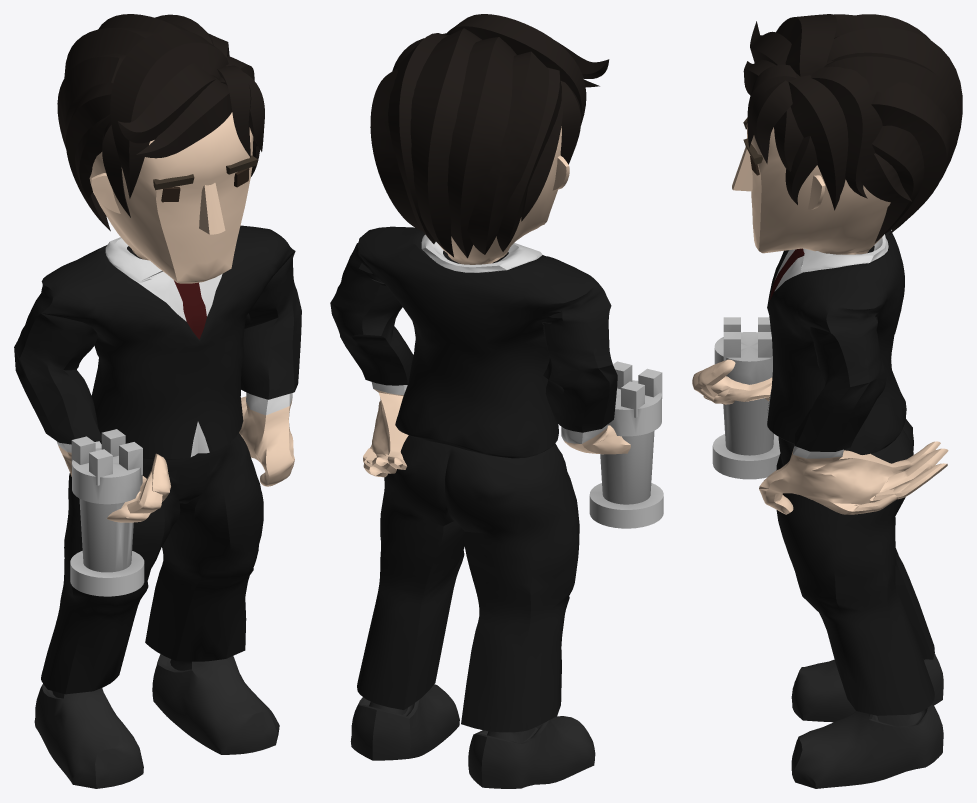
The model's file is av-xadrezista-sombrio.glb.
3 renders of one model, left to right at view 1: azimuth 30°, elevation 25°; view 2: azimuth 150°, elevation 25°; view 3: azimuth 270°, elevation 25°, orthographic.
Parts seen in each view (by area): view 1: Ad_peca_xadrez_0_0; view 2: Ad_peca_xadrez_0_0; view 3: Ad_peca_xadrez_0_0.
Boxes of the visible parts, <box> form: Ad_peca_xadrez_0_0: <box>14,14,301,788</box>; Ad_peca_xadrez_0_0: <box>330,14,663,788</box>; Ad_peca_xadrez_0_0: <box>692,14,962,788</box>.
Bounding box in the file's own units: 0.5482 × 1.36 × 0.4658.
Materials: 1 (1 with a texture image).
